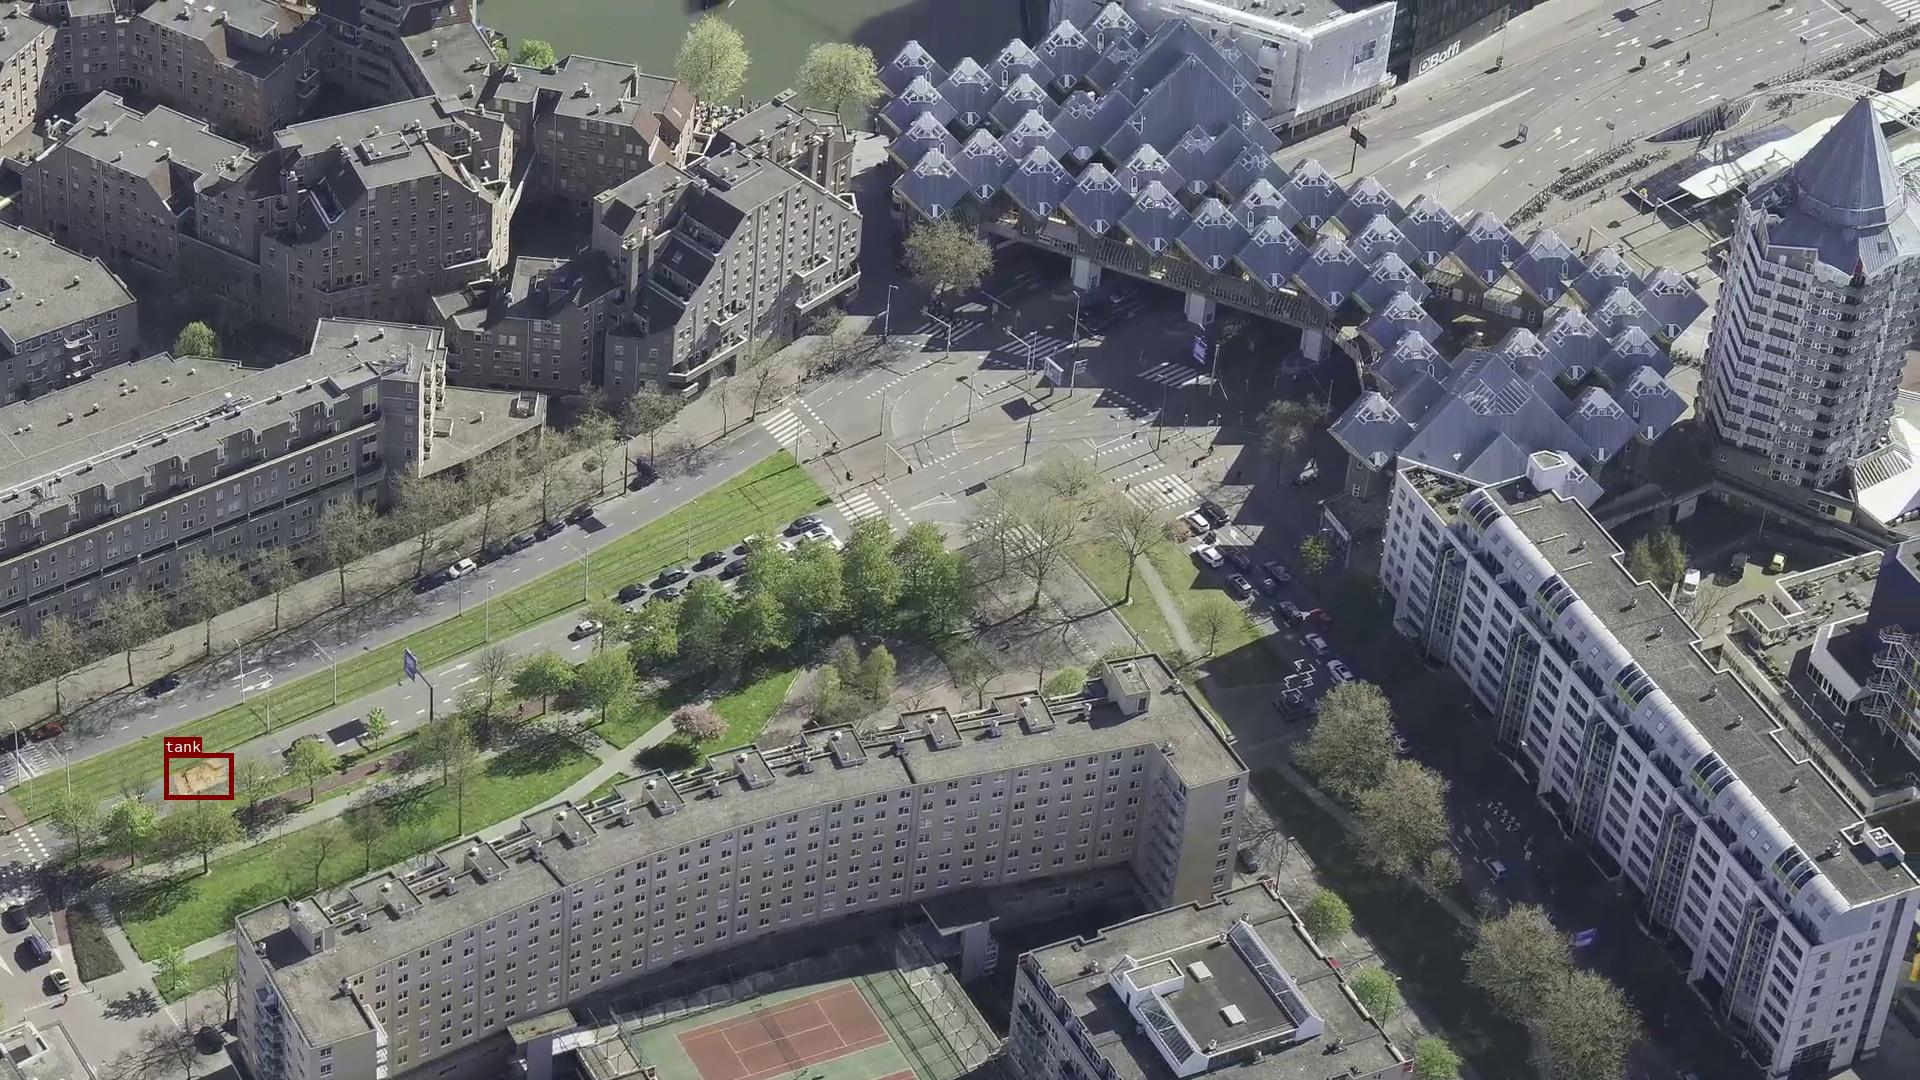tank: (164, 753, 233, 799)
